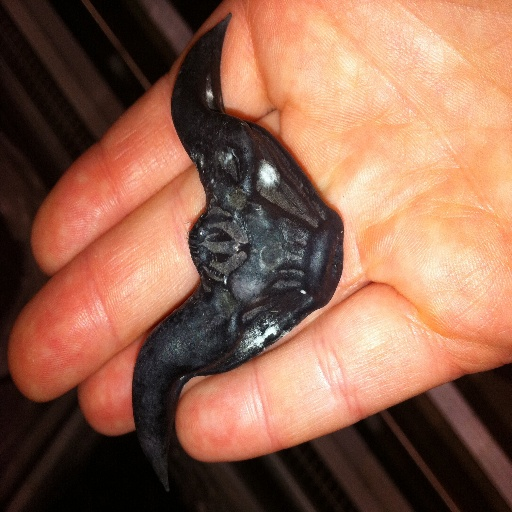hand: (61, 54, 474, 499)
